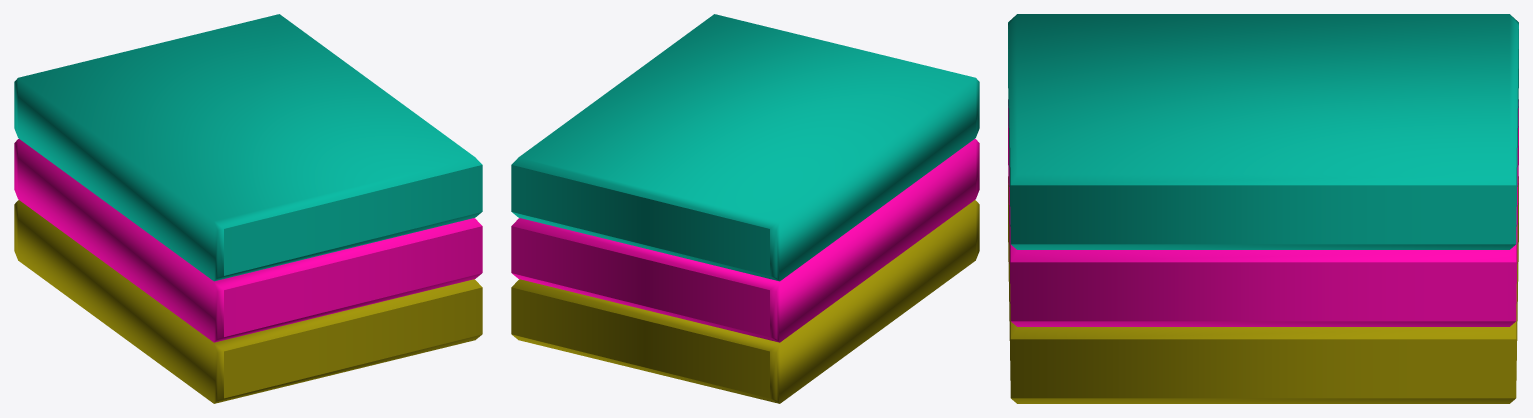
File: Book_Group_04.FBX
3 views of the same model, side by side, from view 1: azimuth 30°, elevation 25°; view 2: azimuth 150°, elevation 25°; view 3: azimuth 270°, elevation 25° (orthographic). The views are drawn at different scales.
Visible parts, largest first — view 1: Object001; view 2: Object001; view 3: Object001.
Boxes of the visible parts, x1,y1,x2,y2 form: Object001: [14, 14, 482, 403]; Object001: [511, 14, 979, 403]; Object001: [1008, 14, 1518, 403].
Size of the model in its own units: 30.08 by 19.76 by 39.83.
